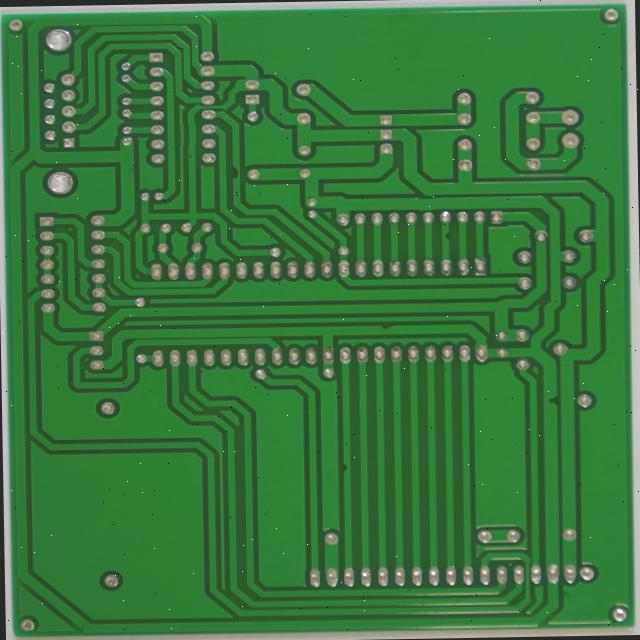mouse_bite: (179, 122, 195, 145), (344, 295, 369, 307), (304, 445, 319, 463), (535, 372, 549, 388), (419, 192, 432, 209)
